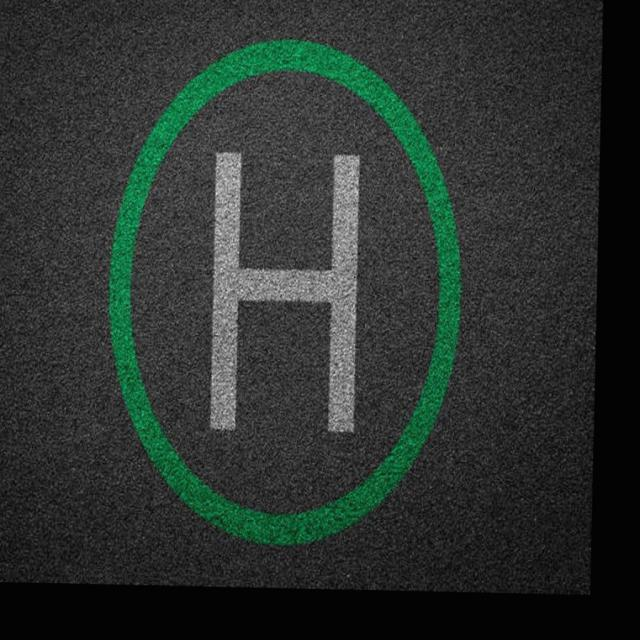helipad: (102, 34, 464, 550)
